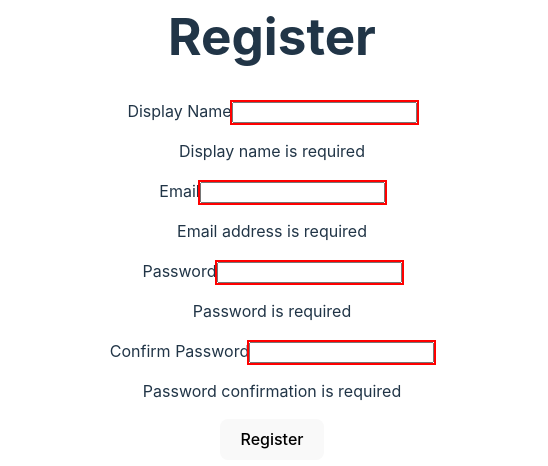
<Register> › Display Name Input › Hides error labels when fields filled out
Like a user typing into the display name input
Type "Test Name" into the field labelled "Display Name" at (324, 112), box [232,102,417,123]
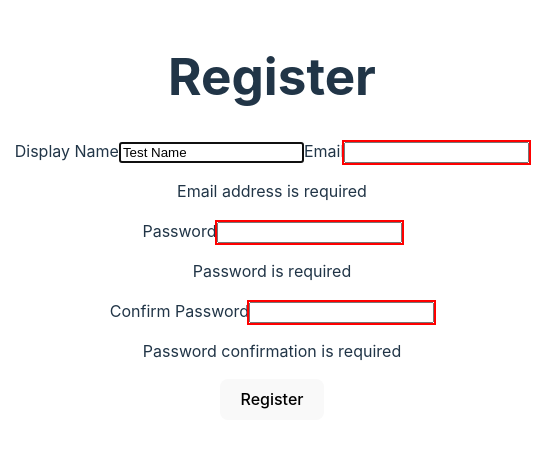
Now the text "Display name is required" is gone
